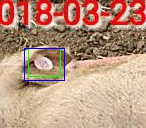text: (28, 48, 60, 76)
